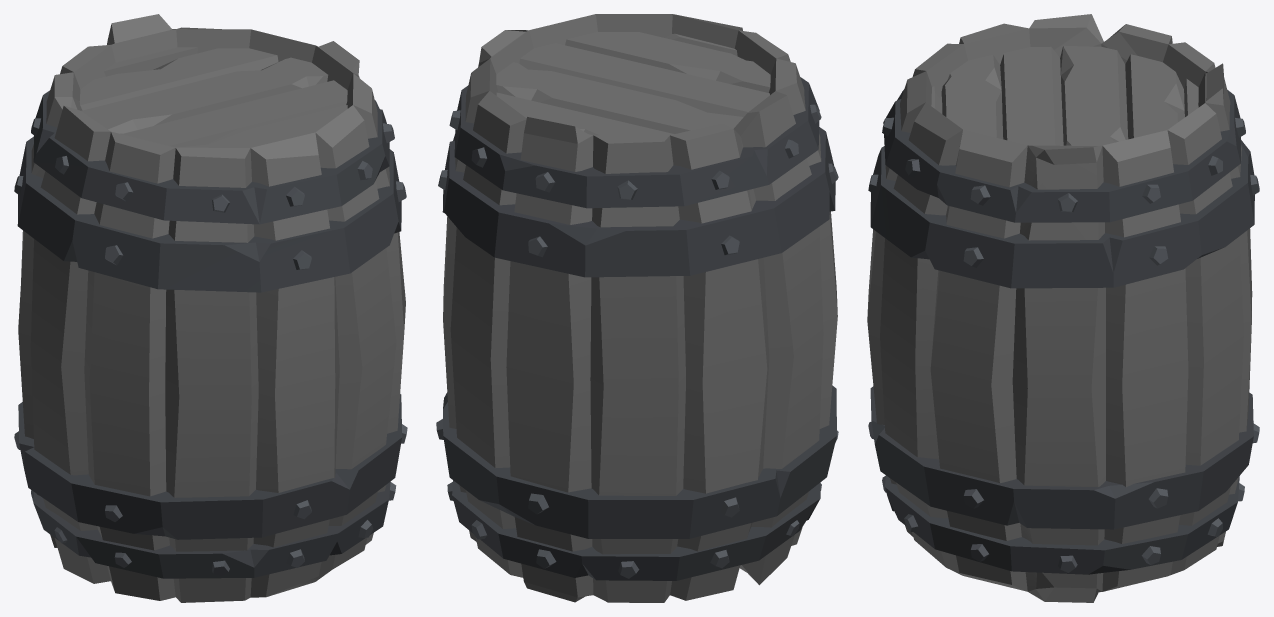
File: SM_Gen_Prop_Barrel_Wood_01.glb
3 views of the same model, side by side, from view 1: azimuth 30°, elevation 25°; view 2: azimuth 150°, elevation 25°; view 3: azimuth 270°, elevation 25° (orthographic). The views are drawn at different scales.
Parts seen in each view (by area): view 1: SM_Gen_Prop_Barrel_Wood_01; view 2: SM_Gen_Prop_Barrel_Wood_01; view 3: SM_Gen_Prop_Barrel_Wood_01.
Boxes of the visible parts, <box> form: SM_Gen_Prop_Barrel_Wood_01: <box>14,14,407,602</box>; SM_Gen_Prop_Barrel_Wood_01: <box>436,14,838,602</box>; SM_Gen_Prop_Barrel_Wood_01: <box>867,14,1259,602</box>.
Size of the model in its own units: 0.7126 by 0.9591 by 0.732.
Materials: 1 (1 with a texture image).
